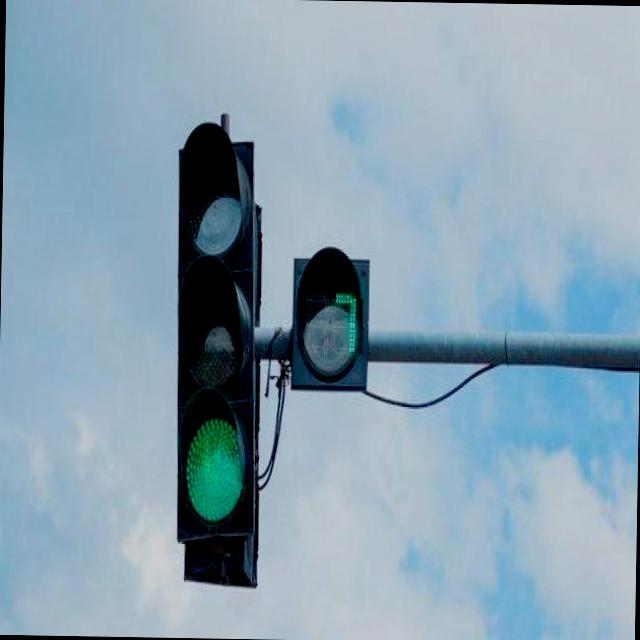Zielone swiatlo: (174, 122, 261, 536)
